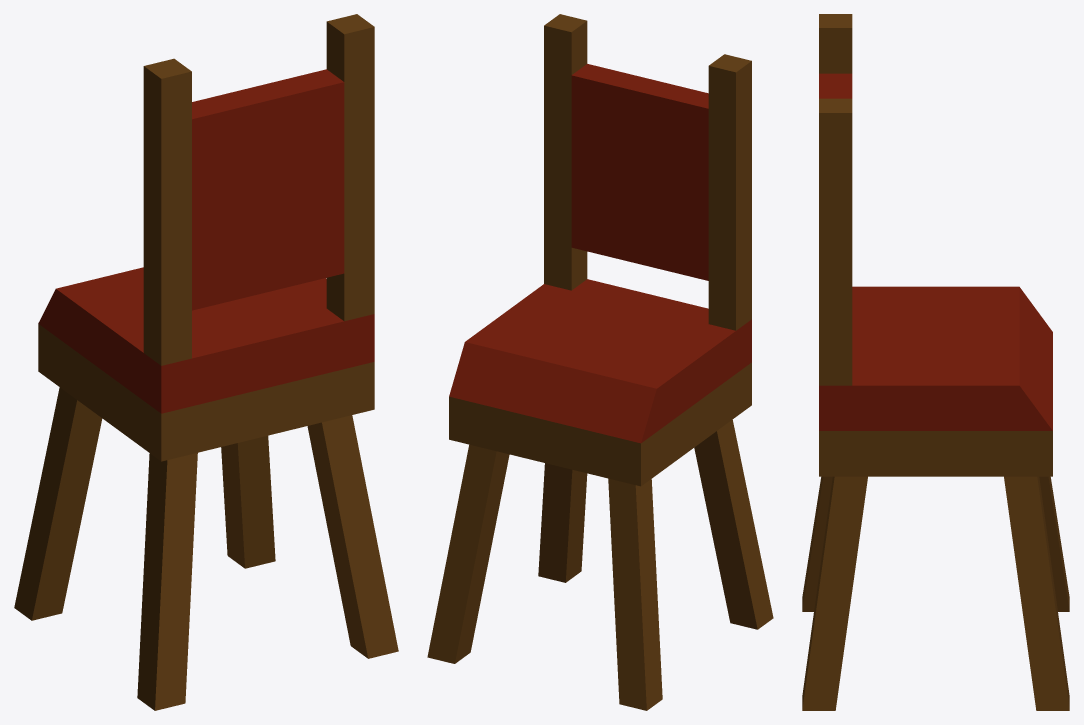
File: obj_chair_4_0.obj
The picture shows the model from 3 angles, left to right: view 1: azimuth 30°, elevation 25°; view 2: azimuth 150°, elevation 25°; view 3: azimuth 270°, elevation 25°; orthographic projection. The views are drawn at different scales.
Bounding box in the file's own units: 0.5 × 1.22 × 0.5.
